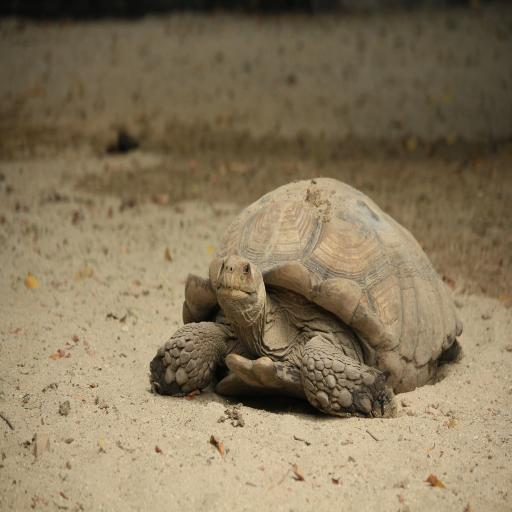turtles: (151, 178, 463, 418)
